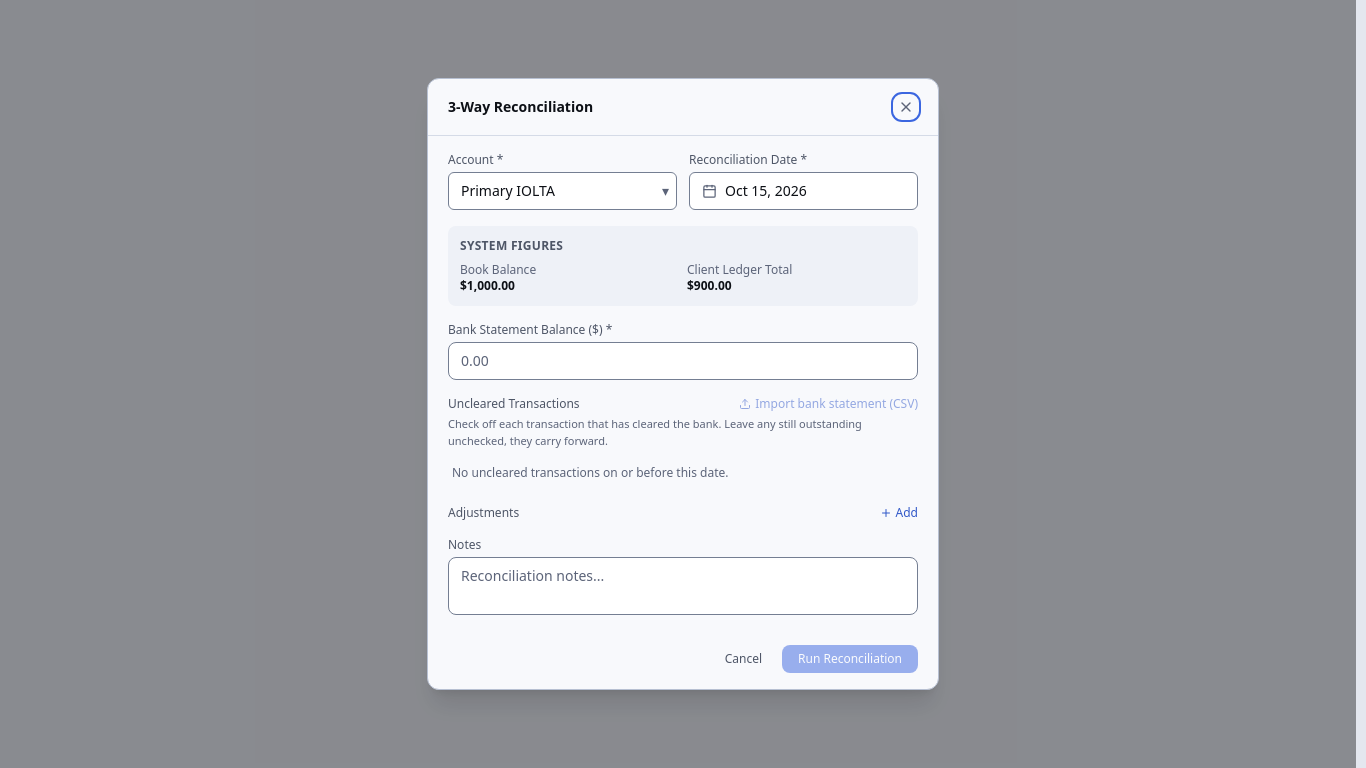
book vs. client ledger › refuses In Balance when book and ledger disagree, even though the bank side matches exactly
Check: the text "Book Balance" is shown, box top-left (460, 261), bottom-right (536, 278)
Type "1000.00" into the number field labelled "Bank Statement Balance ($) *" at (683,361), box top-left (448, 342), bottom-right (918, 380)
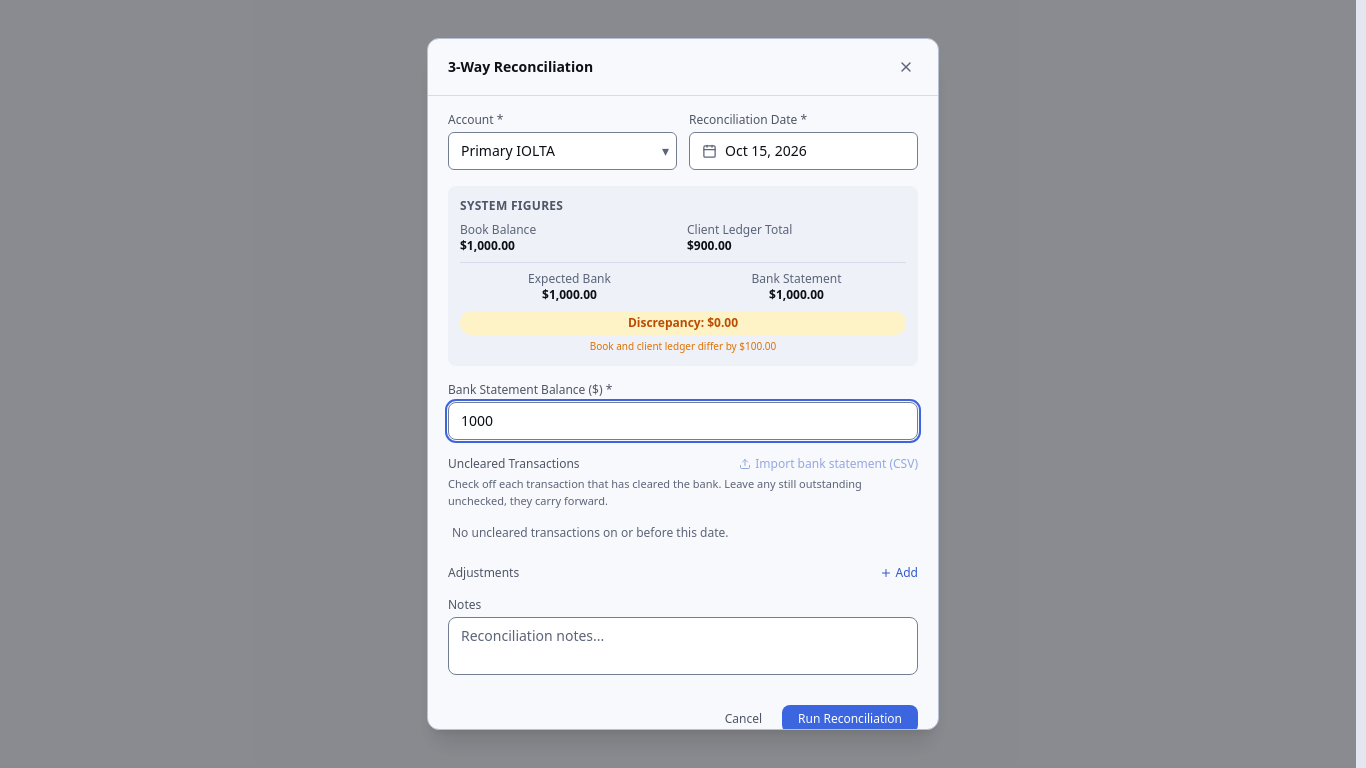
Check: the text "Book and client ledger differ by $100.00" is shown, box top-left (590, 339), bottom-right (776, 353)
